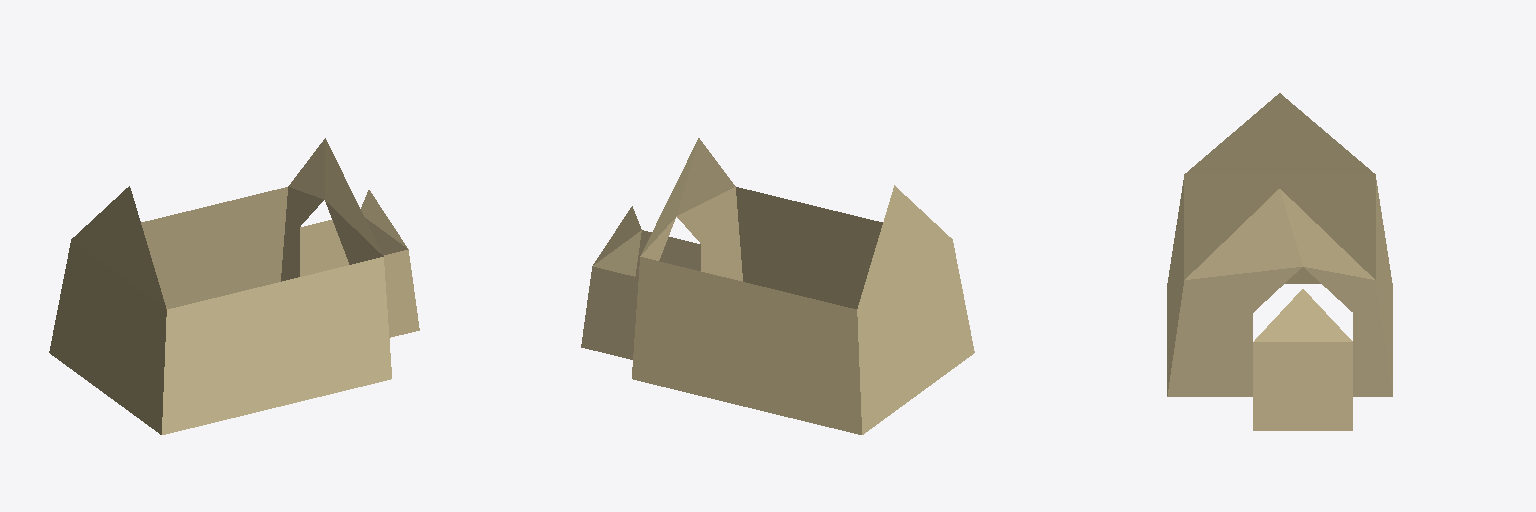
Rendered from wfc_module_19.obj.
The picture shows the model from 3 angles: view 1: azimuth 30°, elevation 25°; view 2: azimuth 150°, elevation 25°; view 3: azimuth 270°, elevation 25°; orthographic projection.
Size of the model in its own units: 0.5546 by 0.3573 by 0.3593.